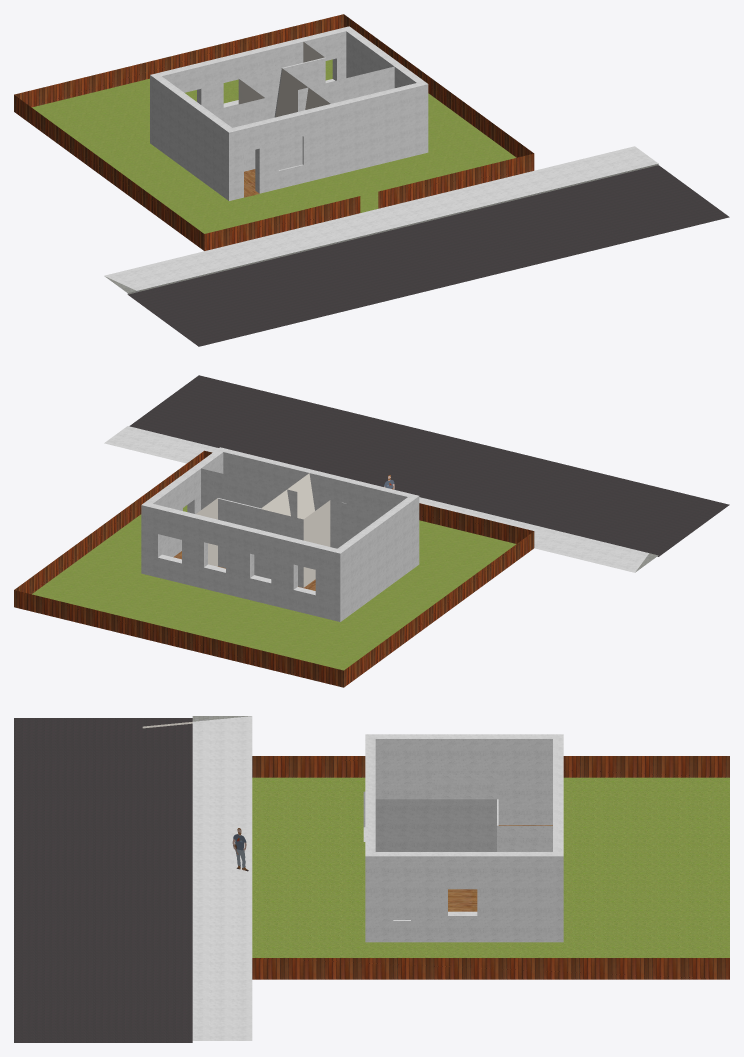
File: GruppeH.glb
The picture shows the model from 3 angles, top to bottom: view 1: azimuth 30°, elevation 25°; view 2: azimuth 150°, elevation 25°; view 3: azimuth 270°, elevation 25°; orthographic projection. The views are drawn at different scales.
Parts seen in each view (by area): view 1: ID478, ID523, ID491, SketchUp, ID452, ID568, ID560, ID465, ID544; view 2: ID478, ID523, ID491, SketchUp, ID452, ID560, ID568, ID544, ID552; view 3: ID478, ID491, ID523, ID452, SketchUp, ID552, ID510.
Part boxes in pixels (x1,y1,x2,y2): ID478: [128, 165, 729, 346]; ID523: [150, 26, 428, 200]; ID491: [32, 59, 516, 233]; SketchUp: [14, 14, 534, 250]; ID452: [104, 146, 658, 290]; ID568: [298, 66, 394, 111]; ID560: [239, 57, 325, 119]; ID465: [104, 163, 658, 294]; ID544: [210, 98, 265, 171]; ID478: [129, 375, 729, 556]; ID523: [141, 447, 419, 621]; ID491: [32, 505, 516, 670]; SketchUp: [14, 450, 534, 687]; ID452: [104, 426, 649, 572]; ID560: [217, 498, 303, 587]; ID568: [201, 468, 297, 517]; ID544: [330, 500, 385, 548]; ID552: [303, 500, 330, 587]; ID478: [14, 718, 192, 1042]; ID491: [252, 777, 729, 957]; ID523: [365, 734, 563, 942]; ID452: [192, 716, 252, 1040]; SketchUp: [252, 756, 729, 979]; ID552: [432, 773, 498, 799]; ID510: [448, 825, 552, 911].
Size of the model in its own units: 32.2 by 4.05 by 29.98.
88 materials, 19 textured.
